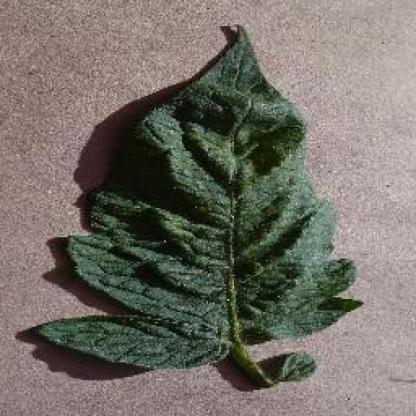Tomato_Spider_Mites: (38, 25, 362, 366)
